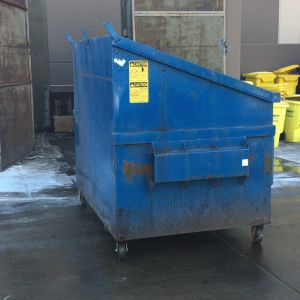Dumpster: (64, 23, 285, 261)
